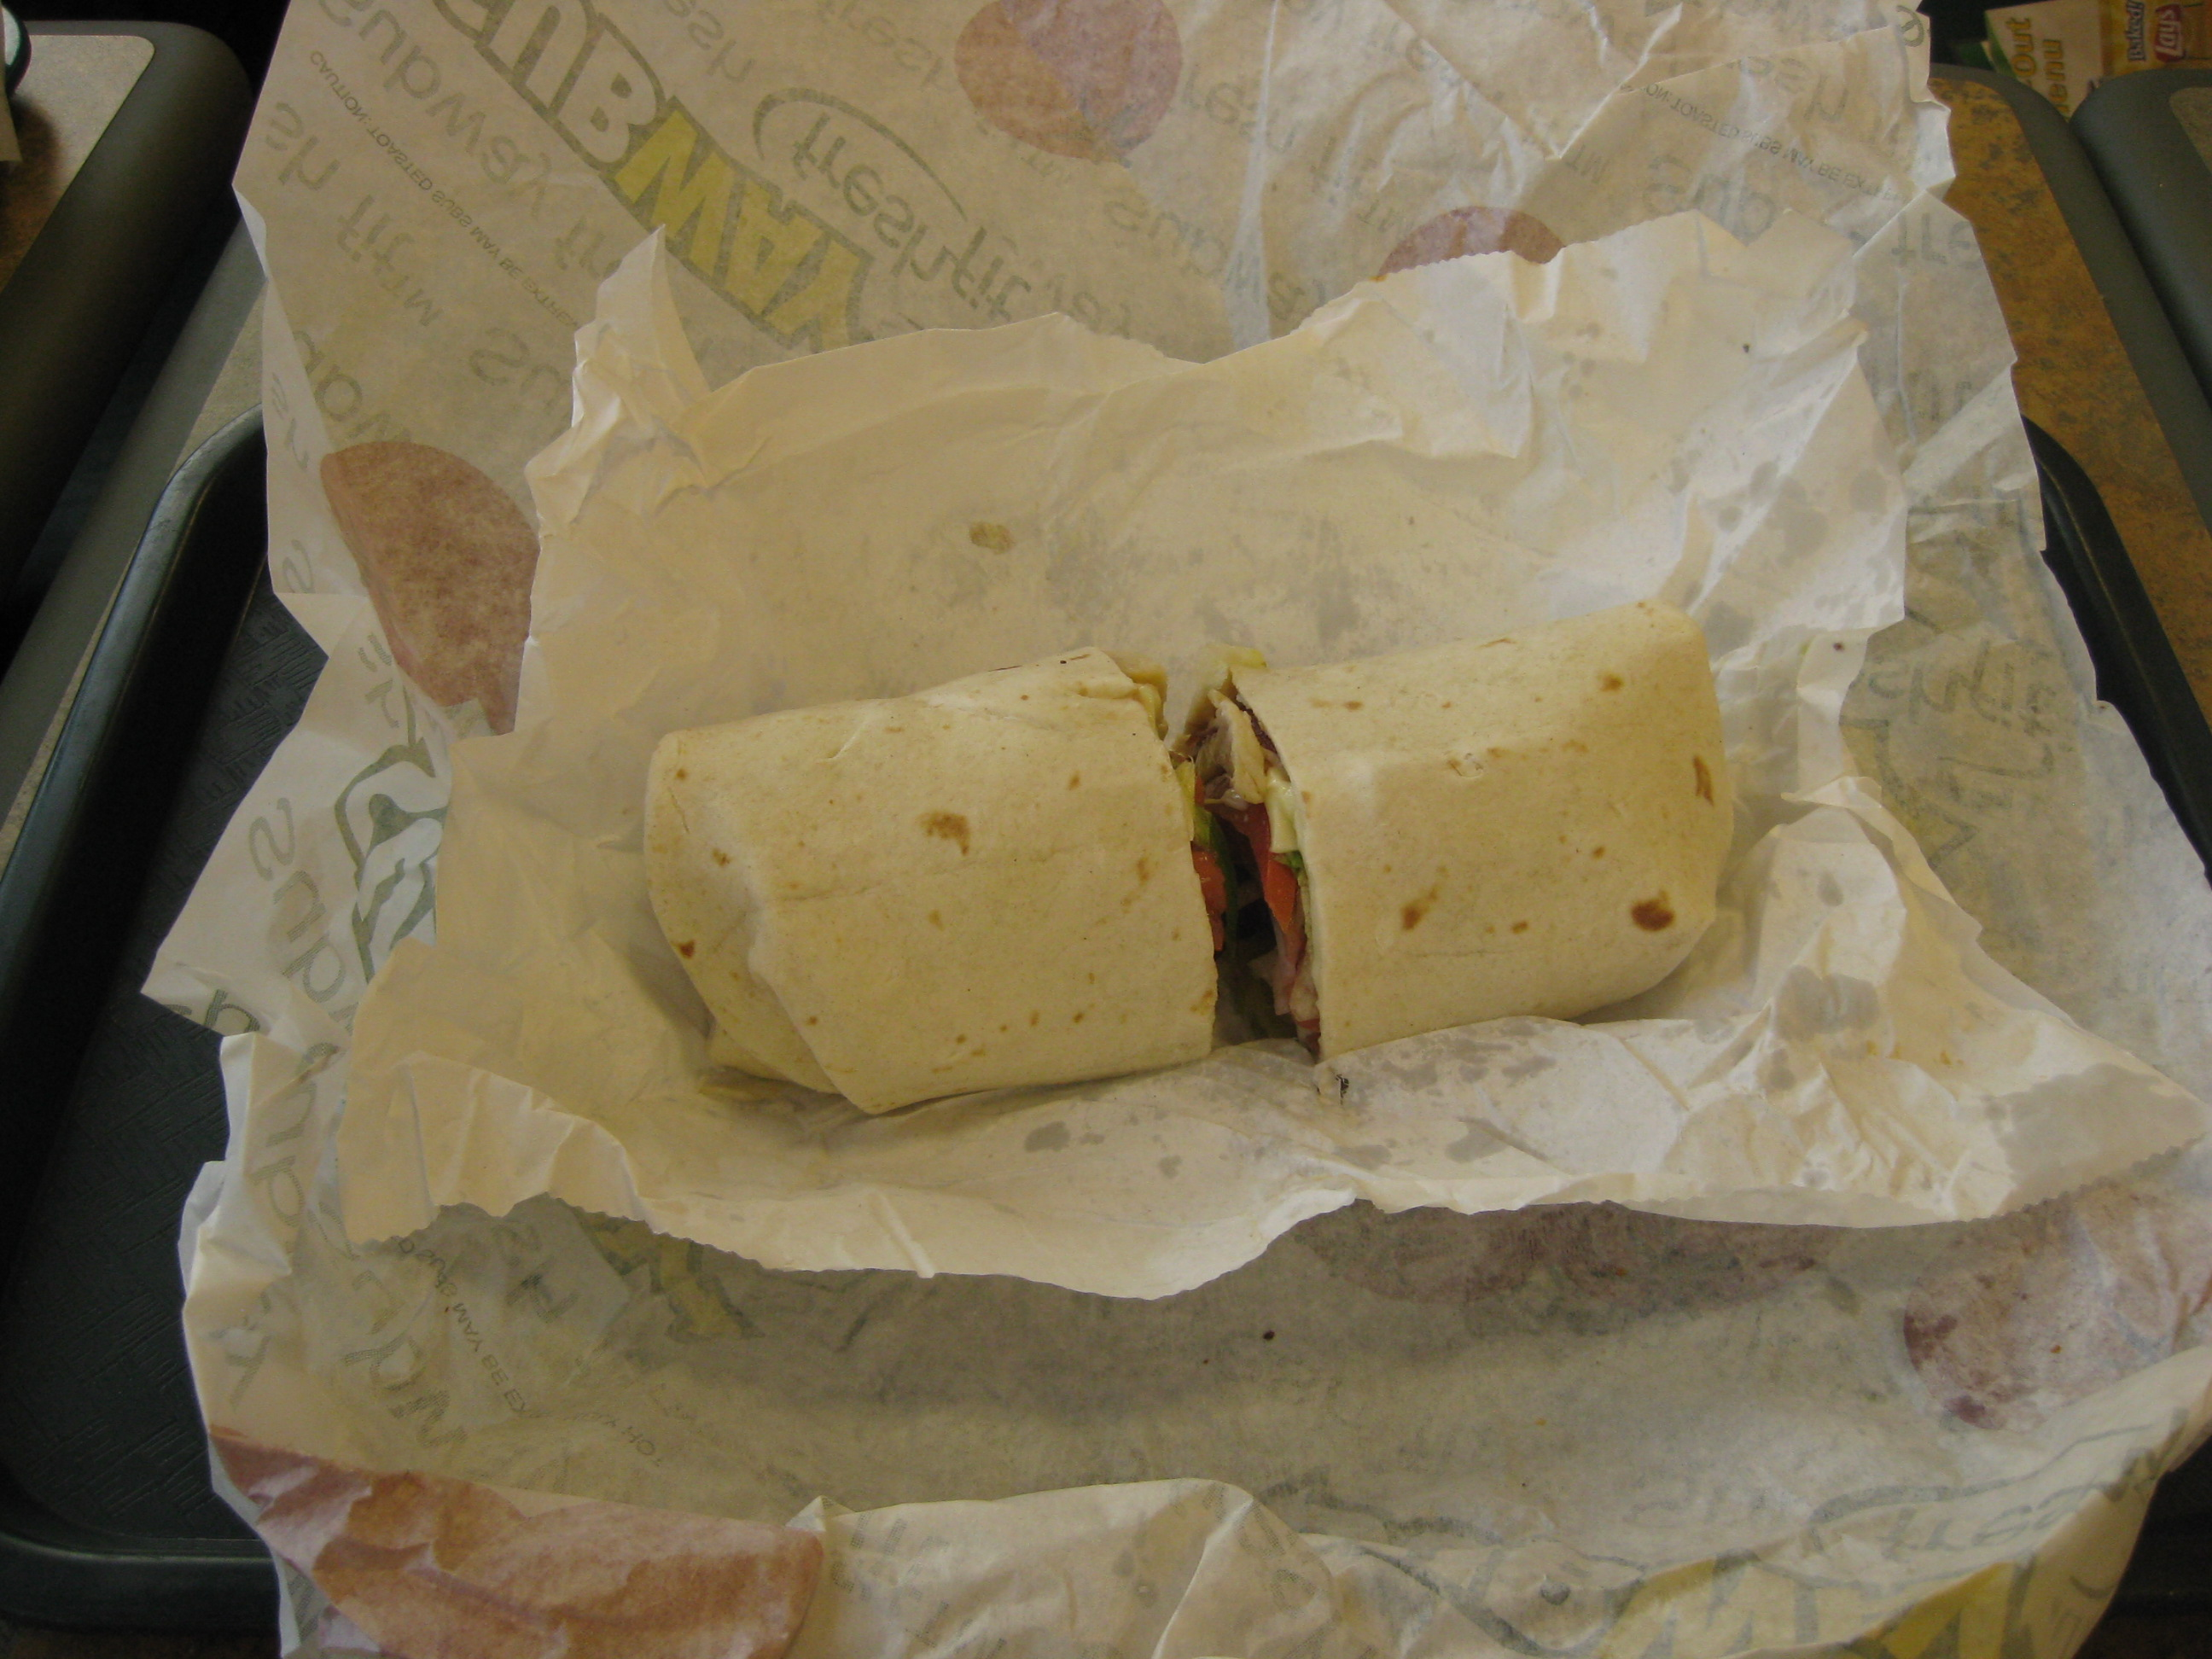burrito: (621, 600, 1821, 1124)
